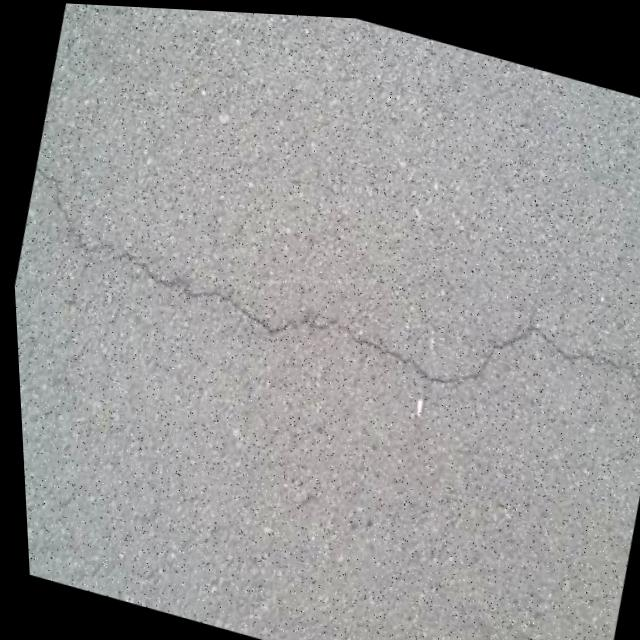Crack: (5, 127, 640, 467)
